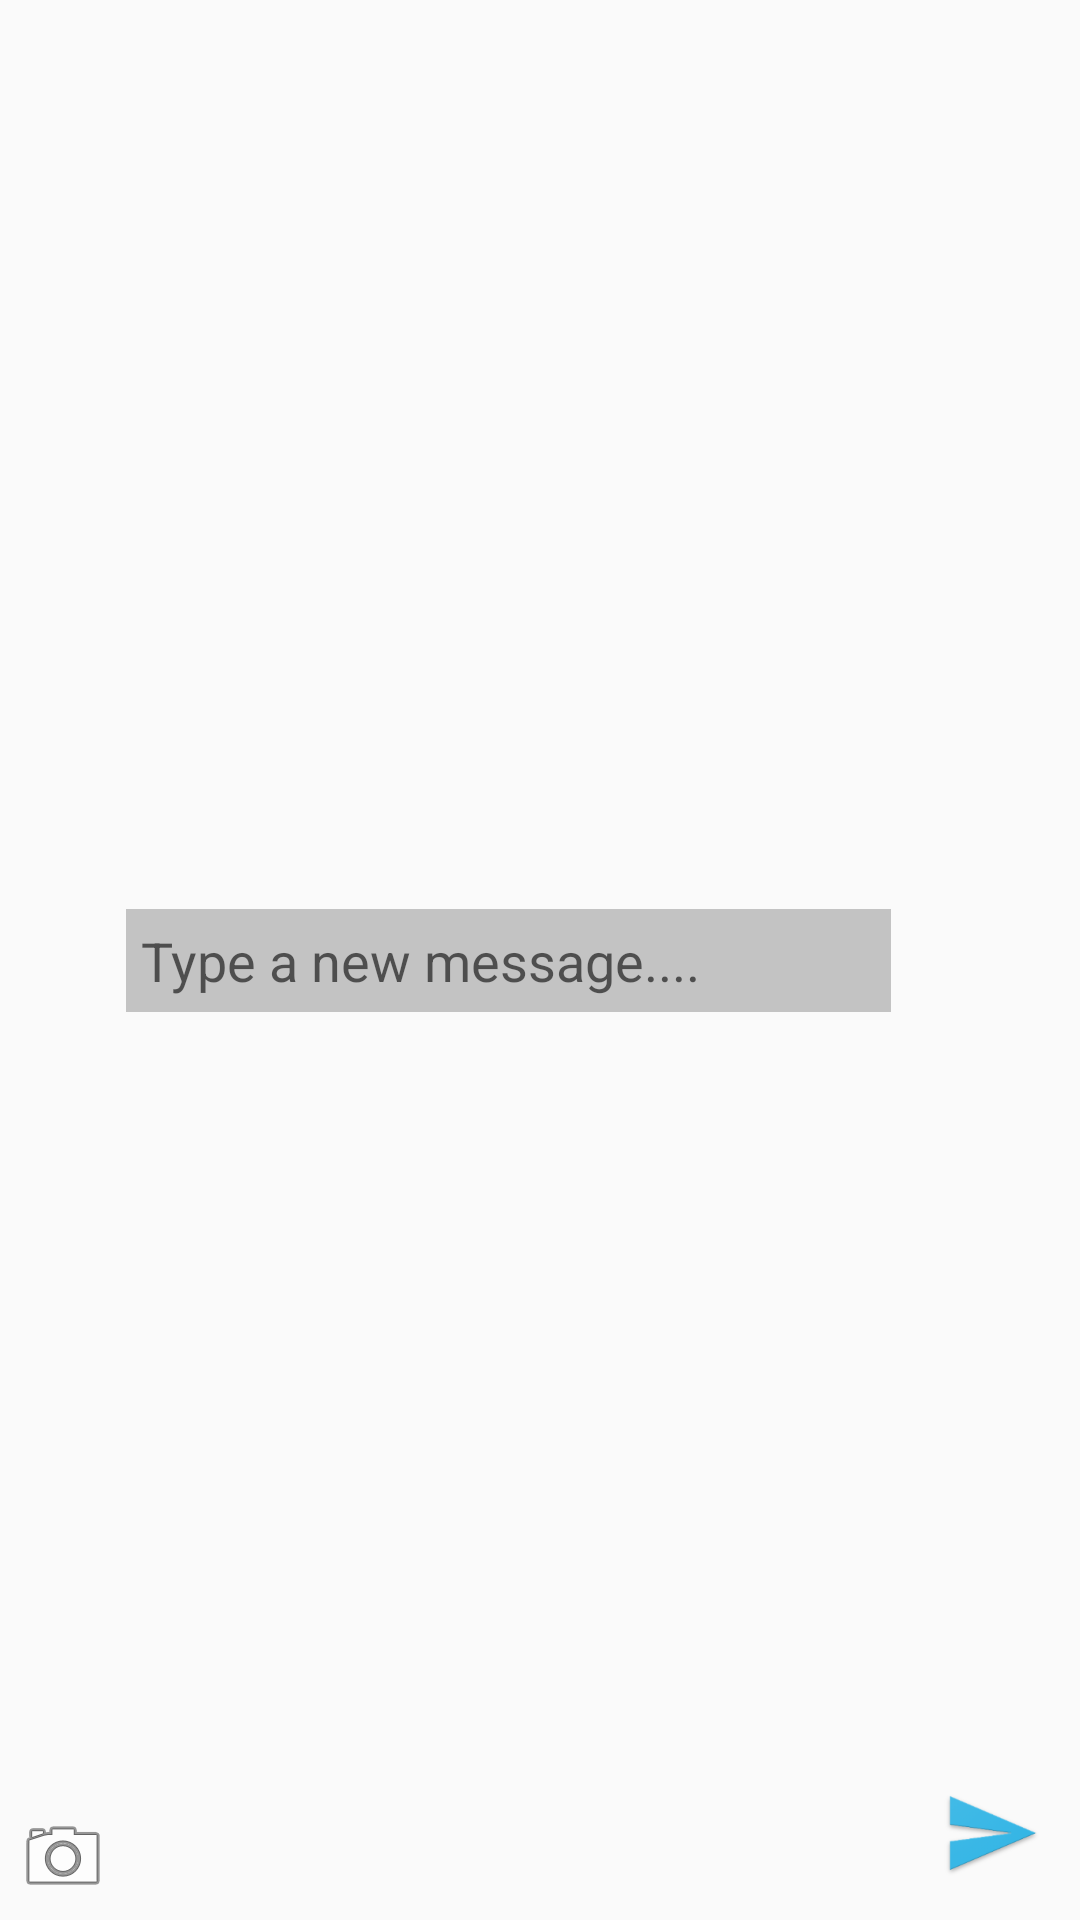

Named icons in this screenshot (1080w x 1920h) and their bounding boxes, (x1, y1, x2, y2):
camera: (26, 1826, 100, 1885)
send: (949, 1796, 1036, 1871)
